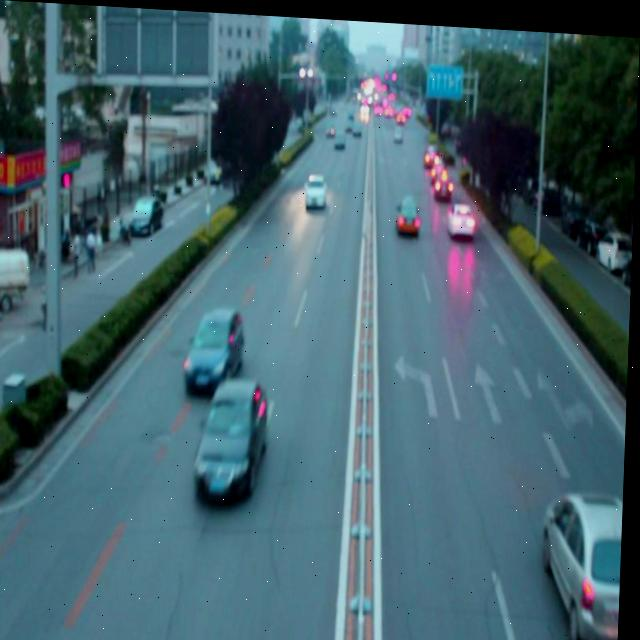car: (544, 479, 627, 640), (197, 373, 269, 499), (185, 300, 246, 391), (447, 192, 477, 231), (396, 191, 421, 230), (304, 167, 328, 206), (434, 163, 455, 194)
